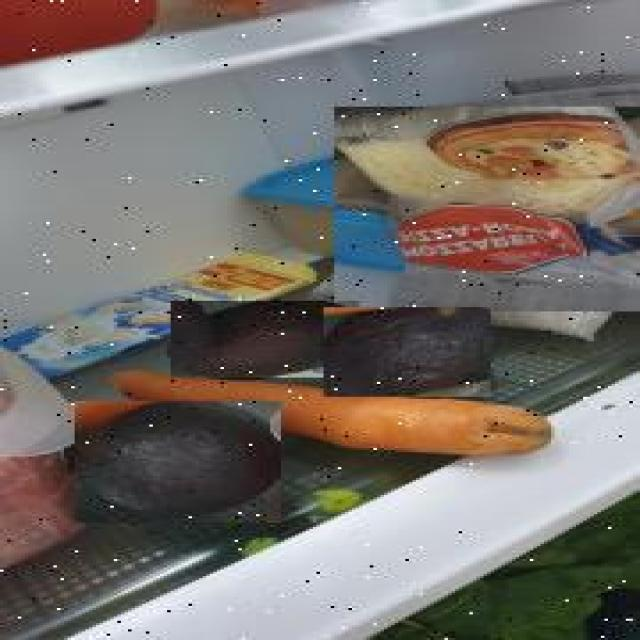avocado: (75, 401, 281, 523), (324, 308, 491, 398), (170, 300, 360, 378)
carrot: (105, 364, 546, 454)
grated_cheese: (334, 106, 640, 312)
